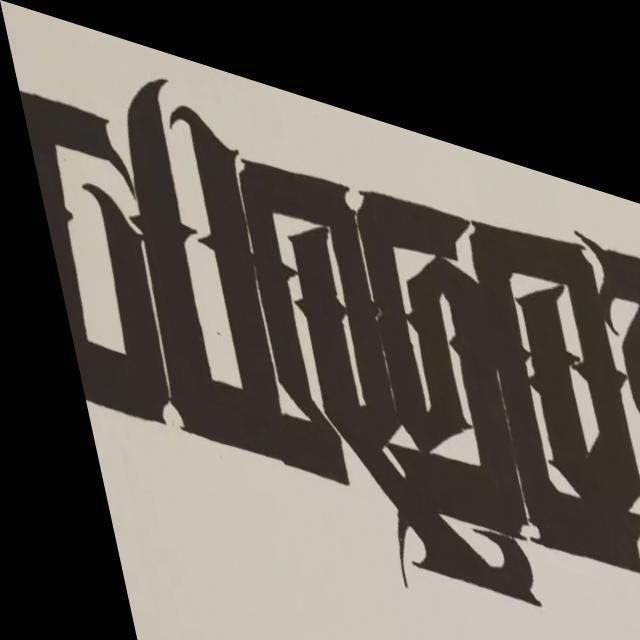nonspitting: (23, 75, 640, 605)
